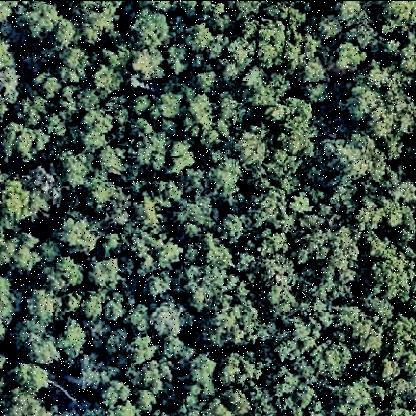tree-top: (201, 291, 269, 353), (299, 210, 355, 284), (362, 237, 416, 305), (329, 128, 387, 184), (267, 99, 321, 157), (253, 251, 302, 314), (339, 71, 385, 129), (274, 310, 322, 361), (126, 125, 174, 174), (248, 17, 292, 69), (177, 91, 221, 143), (55, 211, 101, 259), (311, 336, 357, 383), (174, 189, 220, 235), (1, 172, 39, 227), (204, 154, 248, 201), (129, 6, 175, 50), (252, 190, 296, 236), (42, 251, 87, 295), (55, 144, 97, 191), (330, 374, 377, 416), (17, 2, 66, 42), (2, 121, 46, 165), (76, 2, 122, 44), (51, 41, 94, 85), (344, 310, 383, 358), (79, 260, 119, 306), (238, 68, 280, 111), (145, 298, 187, 340), (4, 231, 42, 277), (385, 311, 416, 367), (231, 126, 272, 168), (263, 360, 306, 400), (7, 359, 53, 396), (128, 189, 164, 236), (128, 46, 170, 86), (23, 287, 63, 328), (76, 104, 116, 145), (354, 192, 392, 234), (328, 36, 370, 73), (21, 333, 64, 368), (85, 253, 124, 291), (219, 35, 256, 75), (56, 315, 92, 355), (86, 61, 126, 97), (124, 361, 164, 397), (374, 1, 416, 35), (4, 385, 50, 416), (91, 142, 127, 179), (185, 349, 220, 387), (149, 85, 185, 121), (181, 22, 218, 57), (96, 378, 136, 410), (165, 138, 200, 174), (217, 210, 251, 247), (140, 266, 176, 300), (12, 92, 48, 126), (183, 395, 241, 416), (122, 332, 157, 366), (218, 350, 250, 385), (1, 60, 21, 112), (284, 186, 321, 214), (153, 239, 187, 268), (105, 327, 133, 362), (329, 1, 367, 26), (36, 235, 67, 265), (188, 65, 220, 93), (297, 58, 329, 86), (315, 11, 344, 41), (77, 288, 105, 319), (41, 112, 71, 140), (1, 33, 18, 80), (2, 273, 18, 322), (128, 92, 155, 118), (97, 230, 123, 256), (108, 400, 142, 416), (143, 2, 183, 14), (2, 269, 16, 303), (1, 2, 17, 22)
